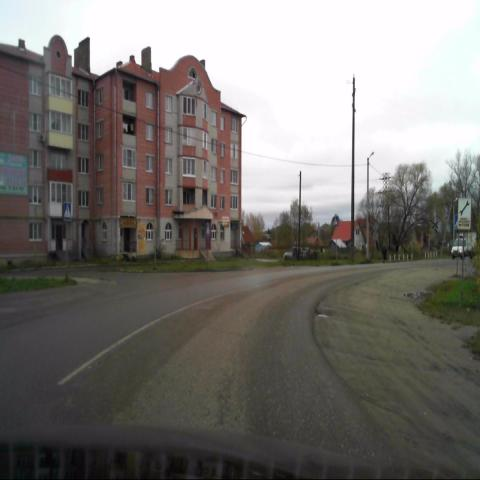5_19_1: (63, 203, 72, 220)
